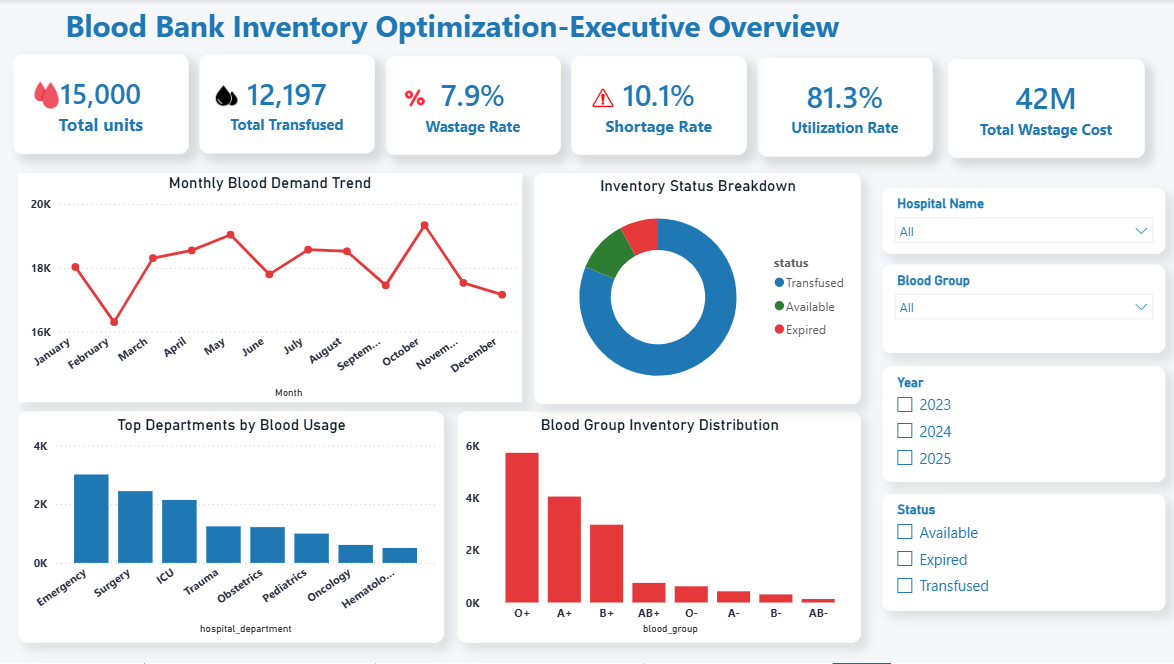

What the dashboard file says about the page in this screenshot:
{"tool":"powerbi","page":{"name":"Executive Dashboard","canvas":[1280,720],"ordinal":0},"visuals":[{"type":"textbox","box":[68.3,0,1115.8,61.8],"z":0},{"type":"cardVisual","fields":{"Data":["blood_bank_inventory_dataset.Total units"]},"box":[17.9,60.2,190,108],"z":0,"group":"g1"},{"type":"cardVisual","fields":{"Data":["blood_bank_inventory_dataset.Total Transfused"]},"box":[219.6,60.2,190,107.4],"z":0,"group":"g4"},{"type":"cardVisual","fields":{"Data":["blood_bank_inventory_dataset.Wastage Rate"]},"box":[421.3,61.8,190,107],"z":0,"group":"g2"},{"type":"cardVisual","fields":{"Data":["blood_bank_inventory_dataset.Shortage Rate"]},"box":[623,61.8,190,107.4],"z":1000,"group":"g3"},{"type":"cardVisual","fields":{"Data":["blood_bank_inventory_dataset.Utilization Rate"]},"box":[824.7,63.4,190.3,107.4],"z":1000},{"type":"image","box":[39.2,89.2,29.3,29.3],"z":1000,"group":"g1"},{"type":"image","box":[233.3,89.2,32.5,30.9],"z":1000,"group":"g4"},{"type":"group","id":"g1","title":"Group 1","box":[17.9,60.2,190,108],"z":2000},{"type":"image","box":[645.8,88.1,22.8,39],"z":2000,"group":"g3"},{"type":"lineChart","title":"Monthly Blood Demand Trend","fields":{"Category":["Calendar.Date.Variation.Date Hierarchy.Month"],"Y":["Sum(blood_bank_inventory_dataset.daily_units_demanded)"]},"box":[22.8,188.7,546.5,248.9],"z":3000},{"type":"group","id":"g2","title":"Group 2","box":[421.3,61.8,190.3,107.4],"z":4000},{"type":"image","box":[438.7,96.2,27.7,22.4],"z":4000,"group":"g2"},{"type":"clusteredColumnChart","title":"Blood Group Inventory Distribution","fields":{"Category":["blood_bank_inventory_dataset.blood_group"],"Y":["CountNonNull(blood_bank_inventory_dataset.unit_id)"]},"box":[499.3,447.3,437.5,250.5],"z":5000},{"type":"donutChart","title":"Inventory Status Breakdown","fields":{"Category":["blood_bank_inventory_dataset.status"],"Y":["CountNonNull(blood_bank_inventory_dataset.unit_id)"]},"box":[582.3,188.7,354.6,250.5],"z":6000},{"type":"clusteredColumnChart","title":"Top Departments by Blood Usage","fields":{"Category":["blood_bank_inventory_dataset.hospital_department"],"Y":["CountNonNull(blood_bank_inventory_dataset.unit_id)"]},"box":[22.8,447.3,461.9,250.5],"z":7000},{"type":"slicer","fields":{"Values":["blood_bank_inventory_dataset.hospital_name"]},"box":[959.7,204.9,307.4,71.6],"z":8000},{"type":"slicer","fields":{"Values":["blood_bank_inventory_dataset.blood_group"]},"box":[959.7,287.9,307.4,96],"z":9000},{"type":"slicer","fields":{"Values":["blood_bank_inventory_dataset.year"]},"box":[959.7,398.5,307.4,125.2],"z":10000},{"type":"slicer","fields":{"Values":["blood_bank_inventory_dataset.status"]},"box":[959.7,536.8,307.4,126.9],"z":11000},{"type":"group","id":"g3","title":"Group 3","box":[623,61.8,190,107.4],"z":12000},{"type":"group","id":"g4","title":"Group 4","box":[219.6,60.2,190,107.4],"z":13000},{"type":"cardVisual","fields":{"Data":["blood_bank_inventory_dataset.Total Wastage Cost"]},"box":[1031.2,65.1,213.1,107.4],"z":14000}]}

Visuals, with their boxes in screenshot pixels (x1, y1, x2, y2), scaled from the page's 1280x720 canvas onto the 1174x664 screenshot:
textbox: crop(63, 0, 1086, 57)
cardVisual - blood_bank_inventory_dataset.Total units: crop(16, 56, 191, 155)
cardVisual - blood_bank_inventory_dataset.Total Transfused: crop(201, 56, 376, 155)
cardVisual - blood_bank_inventory_dataset.Wastage Rate: crop(386, 57, 561, 156)
cardVisual - blood_bank_inventory_dataset.Shortage Rate: crop(571, 57, 746, 156)
cardVisual - blood_bank_inventory_dataset.Utilization Rate: crop(756, 58, 931, 158)
image: crop(36, 82, 63, 109)
image: crop(214, 82, 244, 111)
"Group 1" group: crop(16, 56, 191, 155)
image: crop(592, 81, 613, 117)
"Monthly Blood Demand Trend" lineChart: crop(21, 174, 522, 404)
"Group 2" group: crop(386, 57, 561, 156)
image: crop(402, 89, 428, 109)
"Blood Group Inventory Distribution" clusteredColumnChart: crop(458, 413, 859, 644)
"Inventory Status Breakdown" donutChart: crop(534, 174, 859, 405)
"Top Departments by Blood Usage" clusteredColumnChart: crop(21, 413, 445, 644)
slicer - blood_bank_inventory_dataset.hospital_name: crop(880, 189, 1162, 255)
slicer - blood_bank_inventory_dataset.blood_group: crop(880, 266, 1162, 354)
slicer - blood_bank_inventory_dataset.year: crop(880, 368, 1162, 483)
slicer - blood_bank_inventory_dataset.status: crop(880, 495, 1162, 612)
"Group 3" group: crop(571, 57, 746, 156)
"Group 4" group: crop(201, 56, 376, 155)
cardVisual - blood_bank_inventory_dataset.Total Wastage Cost: crop(946, 60, 1141, 159)
